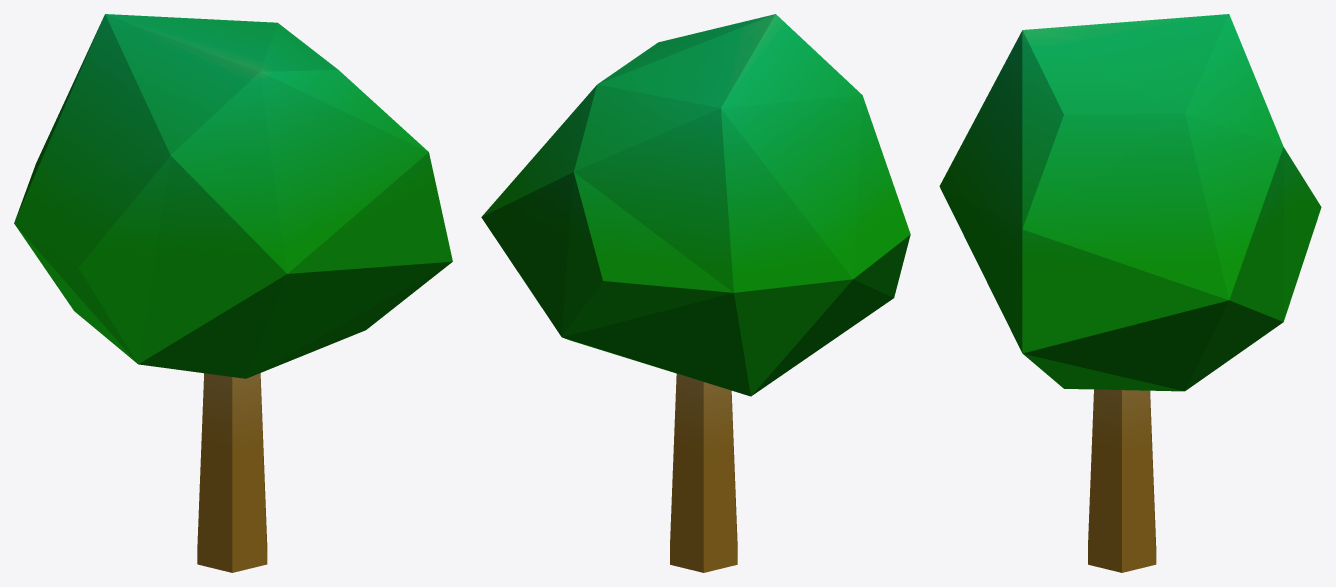
File: Tree_03__1_.fbx
The picture shows the model from 3 angles, left to right: view 1: azimuth 30°, elevation 25°; view 2: azimuth 150°, elevation 25°; view 3: azimuth 270°, elevation 25°; orthographic projection. The views are drawn at different scales.
Visible parts, largest first — view 1: Tree_03__1_; view 2: Tree_03__1_; view 3: Tree_03__1_.
Boxes of the visible parts, x1=… form: Tree_03__1_: x1=14, y1=14, x2=452, y2=572; Tree_03__1_: x1=481, y1=14, x2=910, y2=572; Tree_03__1_: x1=939, y1=14, x2=1321, y2=572.
Size of the model in its own units: 9077 by 12679 by 8523.
